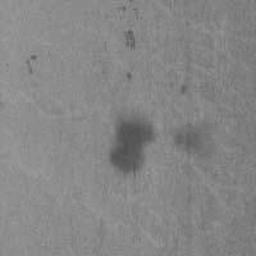Oil spot: (108, 110, 160, 179), (172, 119, 220, 161), (122, 28, 137, 50), (26, 54, 40, 76), (179, 83, 189, 96), (124, 69, 133, 82), (120, 5, 128, 12)
